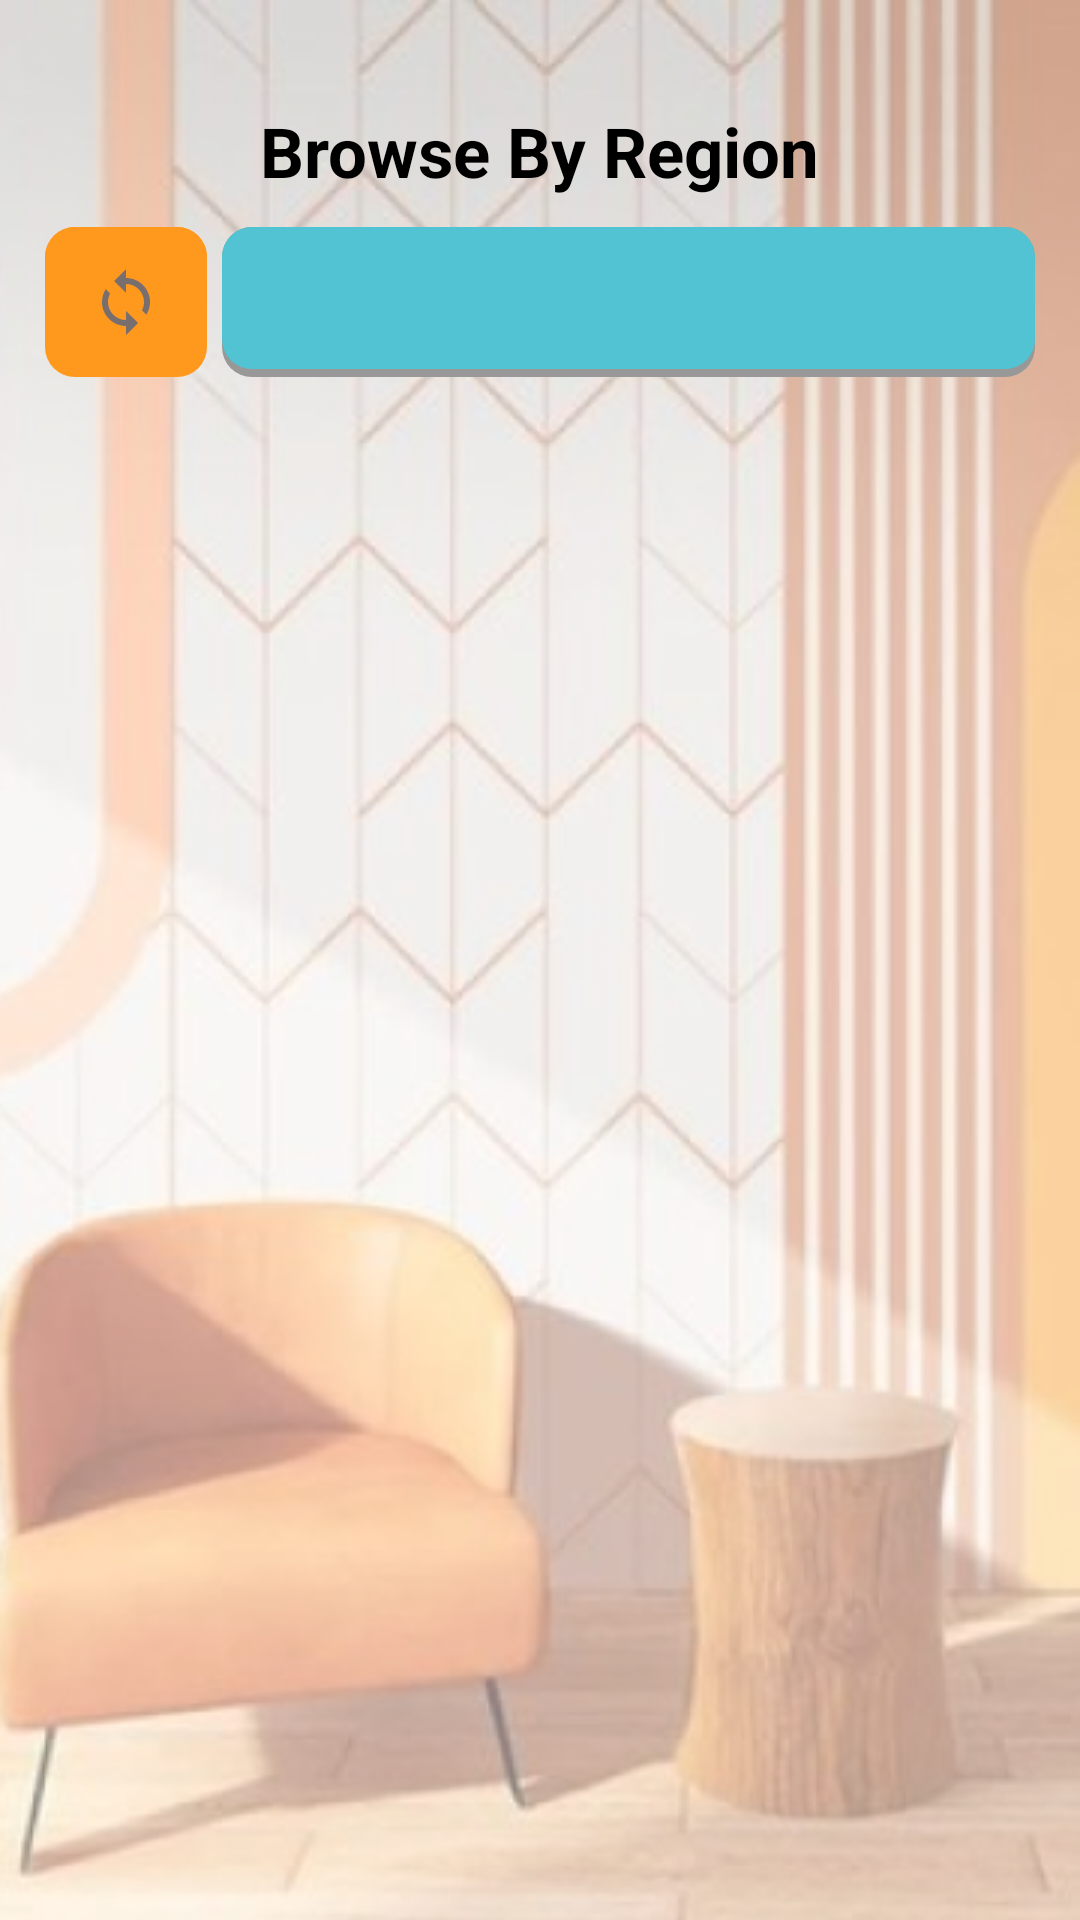

Locate icon controls on the screen. Image size 1080px×1920px, boxes as (x1, y1, x2, y2).
sync: (45, 227, 207, 377)
